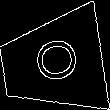O_W: (26, 38, 80, 89)
